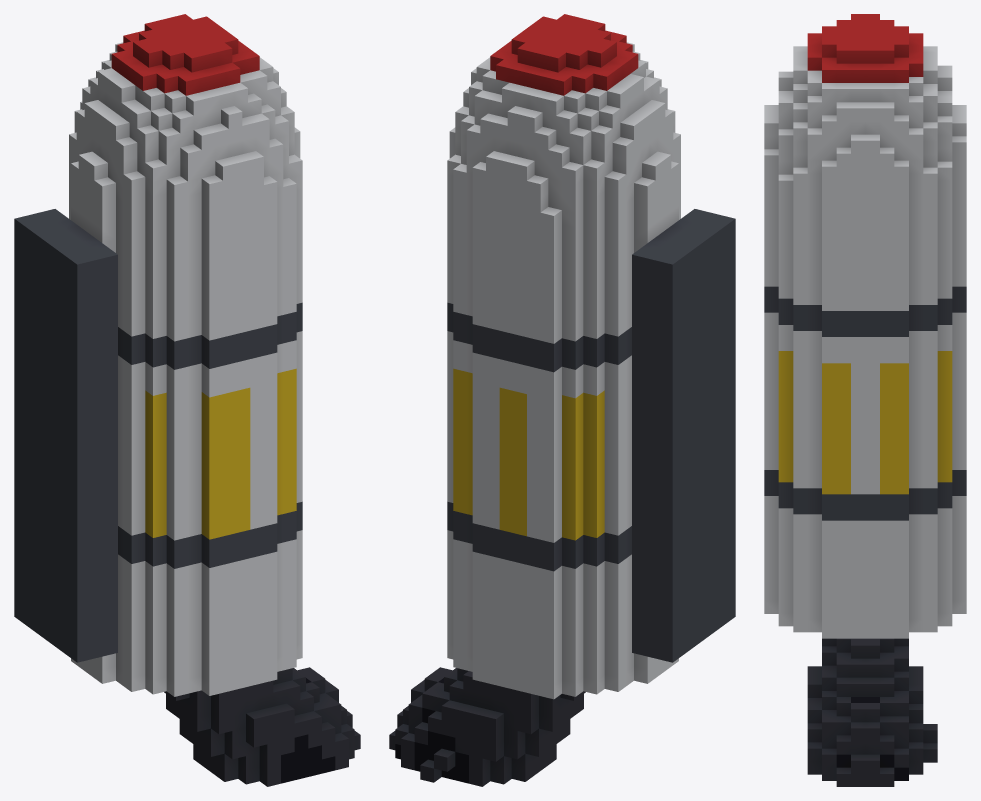
Rendered from eng_sep_motor.glb.
The picture shows the model from 3 angles, left to right: view 1: azimuth 30°, elevation 25°; view 2: azimuth 150°, elevation 25°; view 3: azimuth 270°, elevation 25°; orthographic projection. The views are drawn at different scales.
Visible parts, largest first — view 1: eng_sep_motor; view 2: eng_sep_motor; view 3: eng_sep_motor.
Boxes of the visible parts, x1,y1,x2,y2 form: eng_sep_motor: [14, 14, 360, 786]; eng_sep_motor: [389, 14, 735, 786]; eng_sep_motor: [764, 14, 966, 786].
Size of the model in its own units: 0.3438 by 0.8125 by 0.2188.
